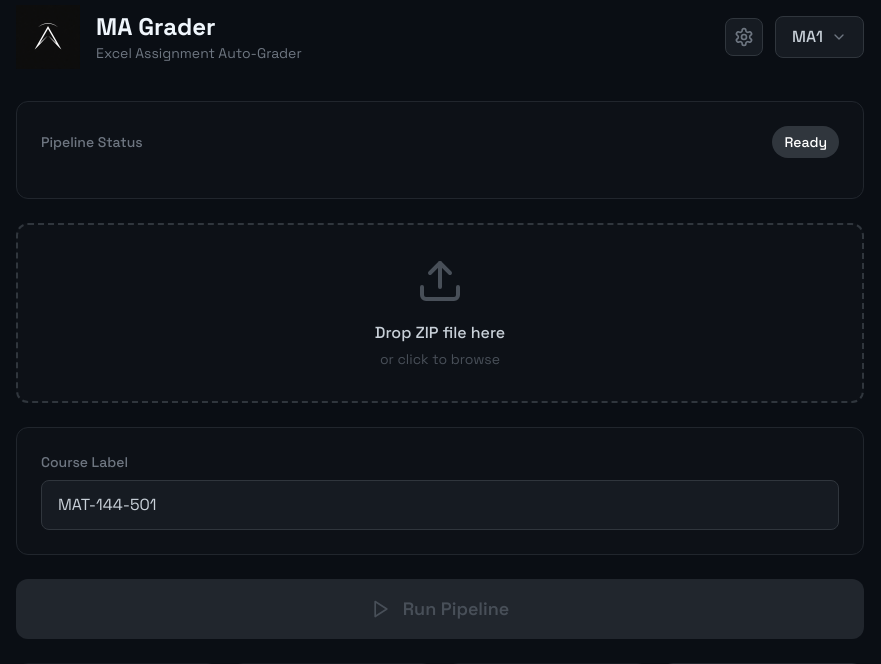
Test: App Component › Assignment Dropdown › opens dropdown on click
The image size is (881, 664).
Click the button "MA1" at x=819, y=37, box top-left (775, 16), bottom-right (864, 58)
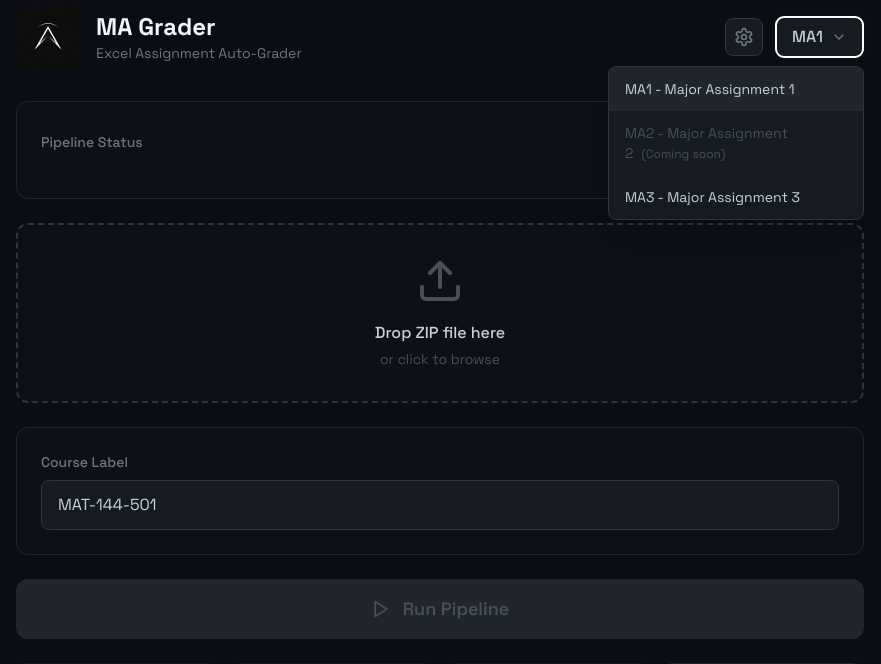
Expected: the button "MA1 - Major Assignment 1" is shown, top-left (609, 67), bottom-right (863, 111)
Expected: the button "MA2 - Major Assignment 2(Coming soon)" is shown, top-left (609, 111), bottom-right (863, 175)
Expected: the button "MA3 - Major Assignment 3" is shown, top-left (609, 175), bottom-right (863, 219)
